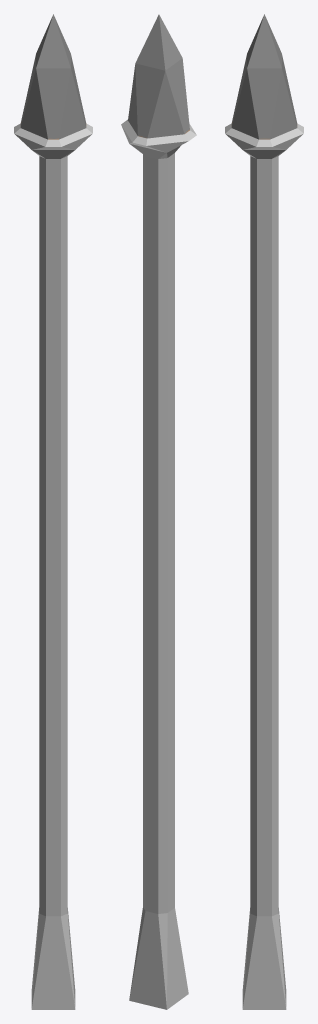
The model's file is Spear.obj.
The picture shows the model from 3 angles, left to right: view 1: azimuth 90°, elevation 25°; view 2: azimuth 150°, elevation 25°; view 3: azimuth 270°, elevation 25°; orthographic projection.
Visible parts, largest first — view 1: Cube.001; view 2: Cube.001; view 3: Cube.001.
Part boxes in pixels (x1=…): Cube.001: x1=14, y1=14, x2=92, y2=1009; Cube.001: x1=121, y1=14, x2=196, y2=1009; Cube.001: x1=225, y1=14, x2=303, y2=1009.
Size of the model in its own units: 0.4148 by 5.73 by 0.4148.
